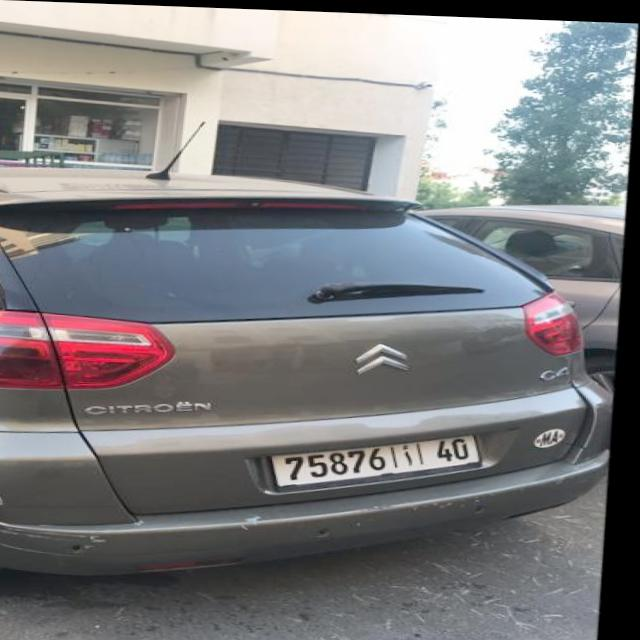License-Plate: (277, 433, 486, 484)
